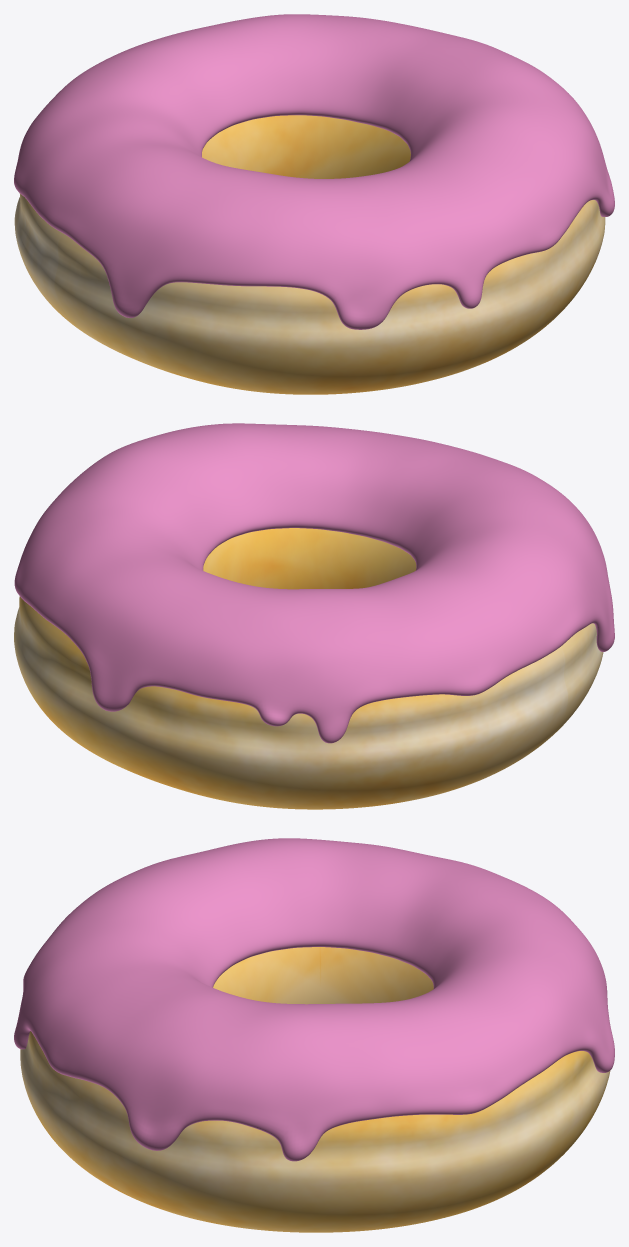
File: donut-model.glb
3 renders of one model, top to bottom at view 1: azimuth 30°, elevation 25°; view 2: azimuth 150°, elevation 25°; view 3: azimuth 270°, elevation 25°, orthographic. The views are drawn at different scales.
Visible parts, largest first — view 1: Icing, Donut; view 2: Icing, Donut; view 3: Icing, Donut.
Part boxes in pixels (<box>): Icing: <box>14,14,614,329</box>; Donut: <box>14,115,605,394</box>; Icing: <box>14,423,614,743</box>; Donut: <box>14,528,603,809</box>; Icing: <box>14,838,614,1161</box>; Donut: <box>20,947,610,1232</box>.
Size of the model in its own units: 0.1508 by 0.0577 by 0.149.
Materials: 2 (1 with a texture image).
